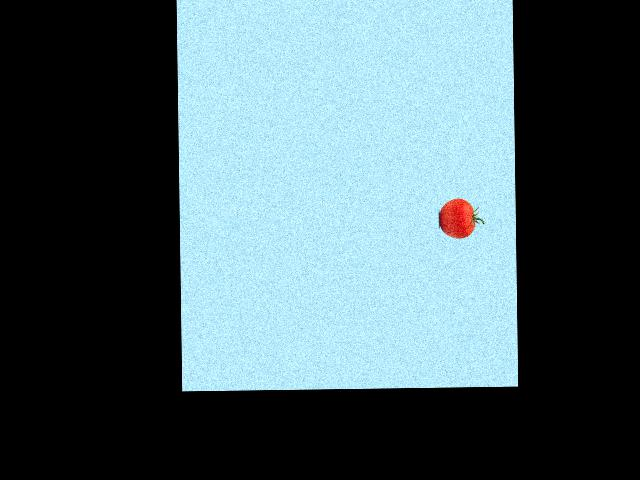tomato: (439, 197, 474, 238)
